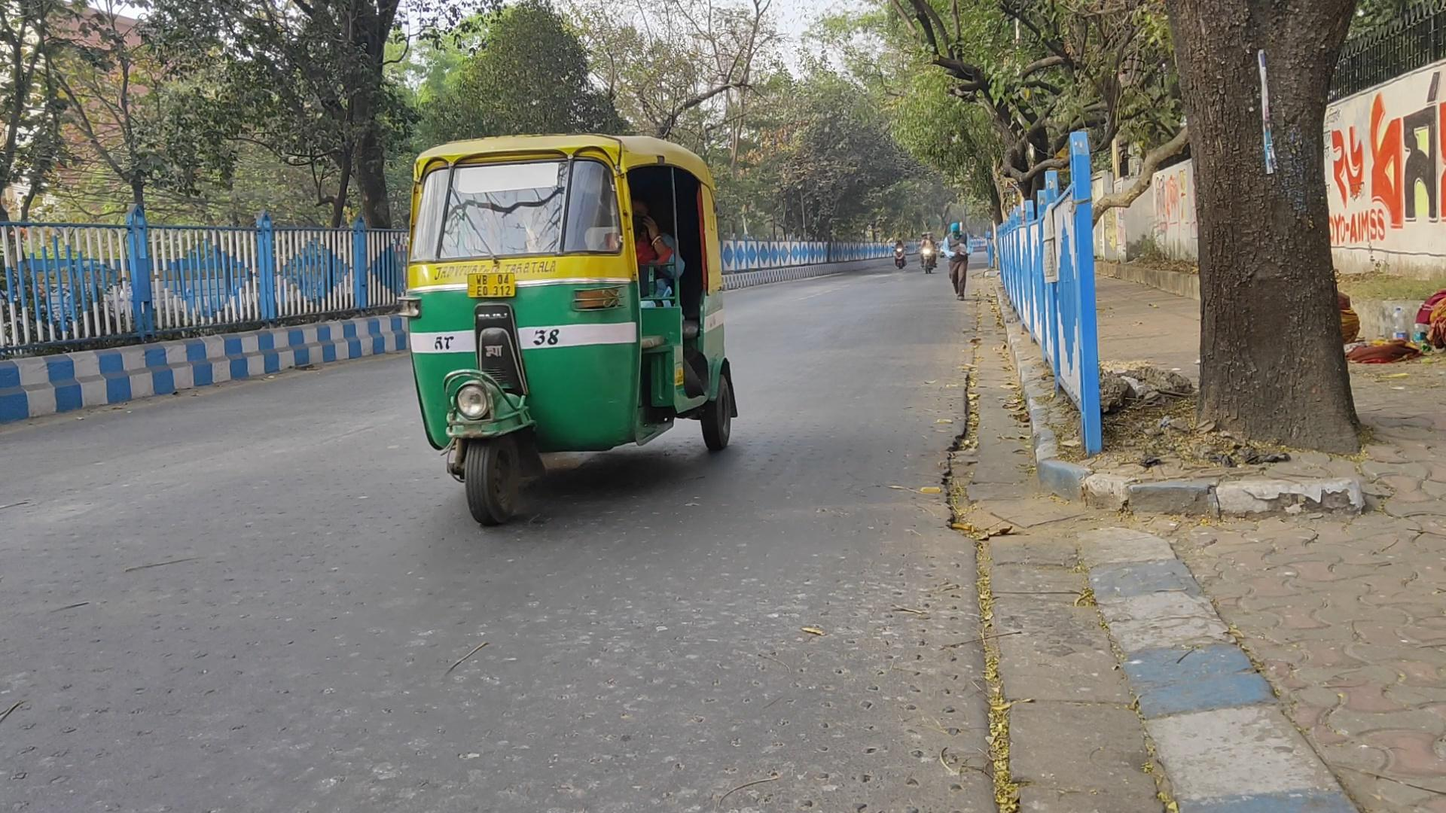Auto: (401, 130, 739, 528)
bike: (917, 232, 938, 276), (891, 238, 908, 270)
